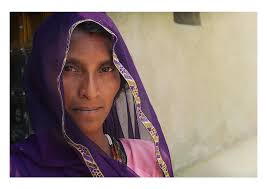indian_female: (27, 16, 145, 153)
